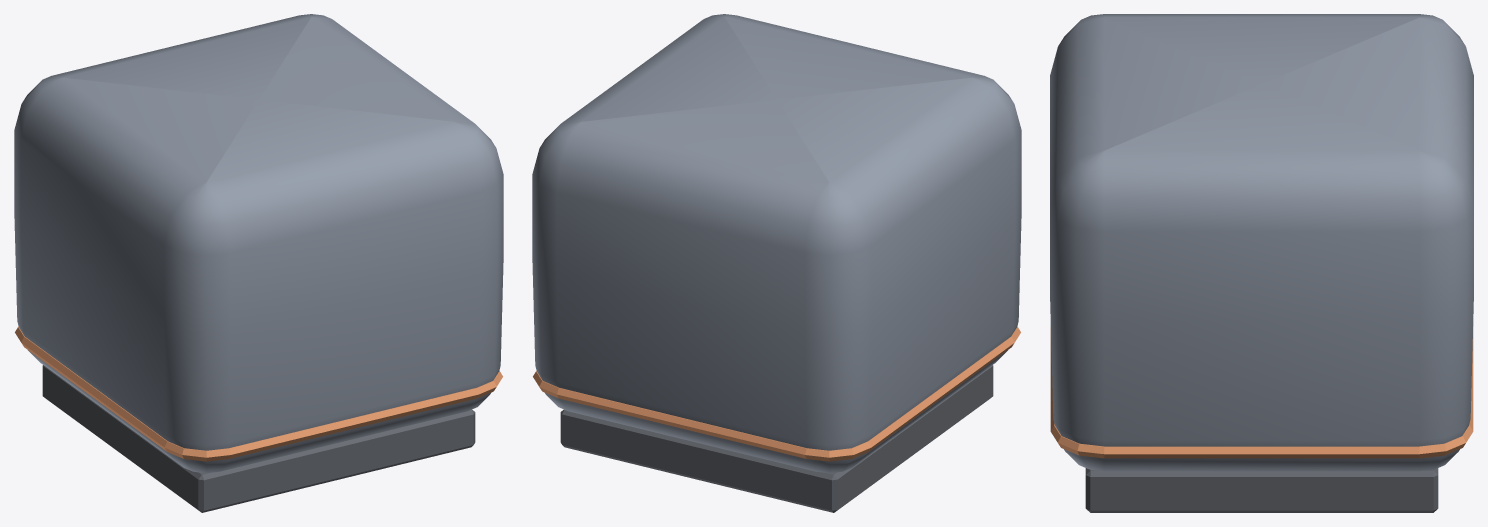
The model's file is downtown-office-interiors-ottoman-cube-a3eeb142__16991.glb.
The picture shows the model from 3 angles, left to right: view 1: azimuth 30°, elevation 25°; view 2: azimuth 150°, elevation 25°; view 3: azimuth 270°, elevation 25°; orthographic projection. The views are drawn at different scales.
Parts seen in each view (by area): view 1: ottoman-cube; view 2: ottoman-cube; view 3: ottoman-cube.
Boxes of the visible parts, left/top/right/bottom form: ottoman-cube: left=14, top=14, right=503, bottom=512; ottoman-cube: left=532, top=14, right=1021, bottom=512; ottoman-cube: left=1050, top=14, right=1473, bottom=512.
Bounding box in the file's own units: 0.457 × 0.424 × 0.457.
